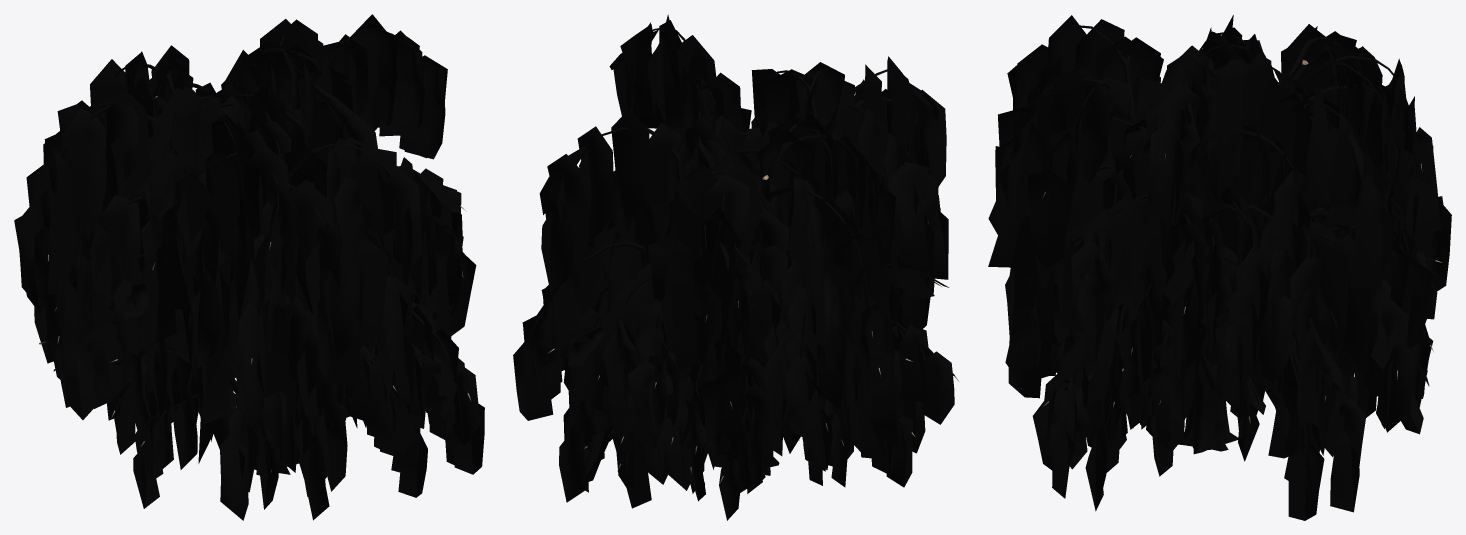
Rendered from weepingWillow.fbx.
The picture shows the model from 3 angles, left to right: view 1: azimuth 30°, elevation 25°; view 2: azimuth 150°, elevation 25°; view 3: azimuth 270°, elevation 25°; orthographic projection. The views are drawn at different scales.
Visible parts, largest first — view 1: weeping_willow; view 2: weeping_willow; view 3: weeping_willow.
Part boxes in pixels (x1=…): weeping_willow: x1=14, y1=14, x2=484, y2=520; weeping_willow: x1=513, y1=14, x2=958, y2=520; weeping_willow: x1=988, y1=15, x2=1451, y2=520.
Bounding box in the file's own units: 492 × 571 × 525.
